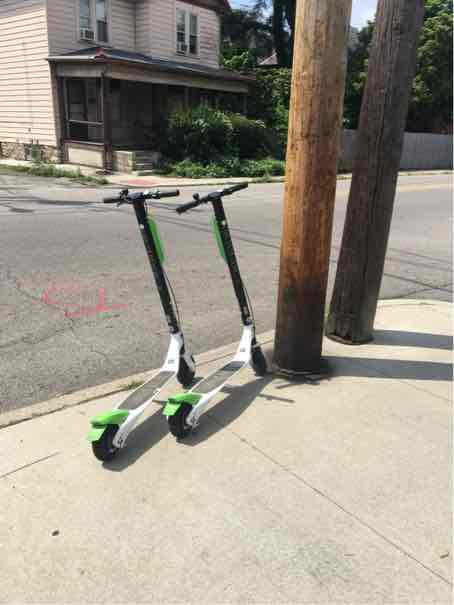scooter: (80, 187, 192, 476), (170, 181, 263, 448)
